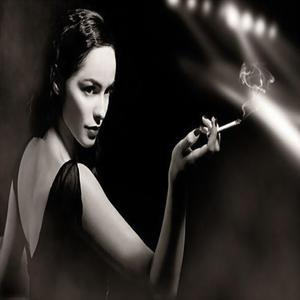cigarette: (212, 117, 243, 135)
